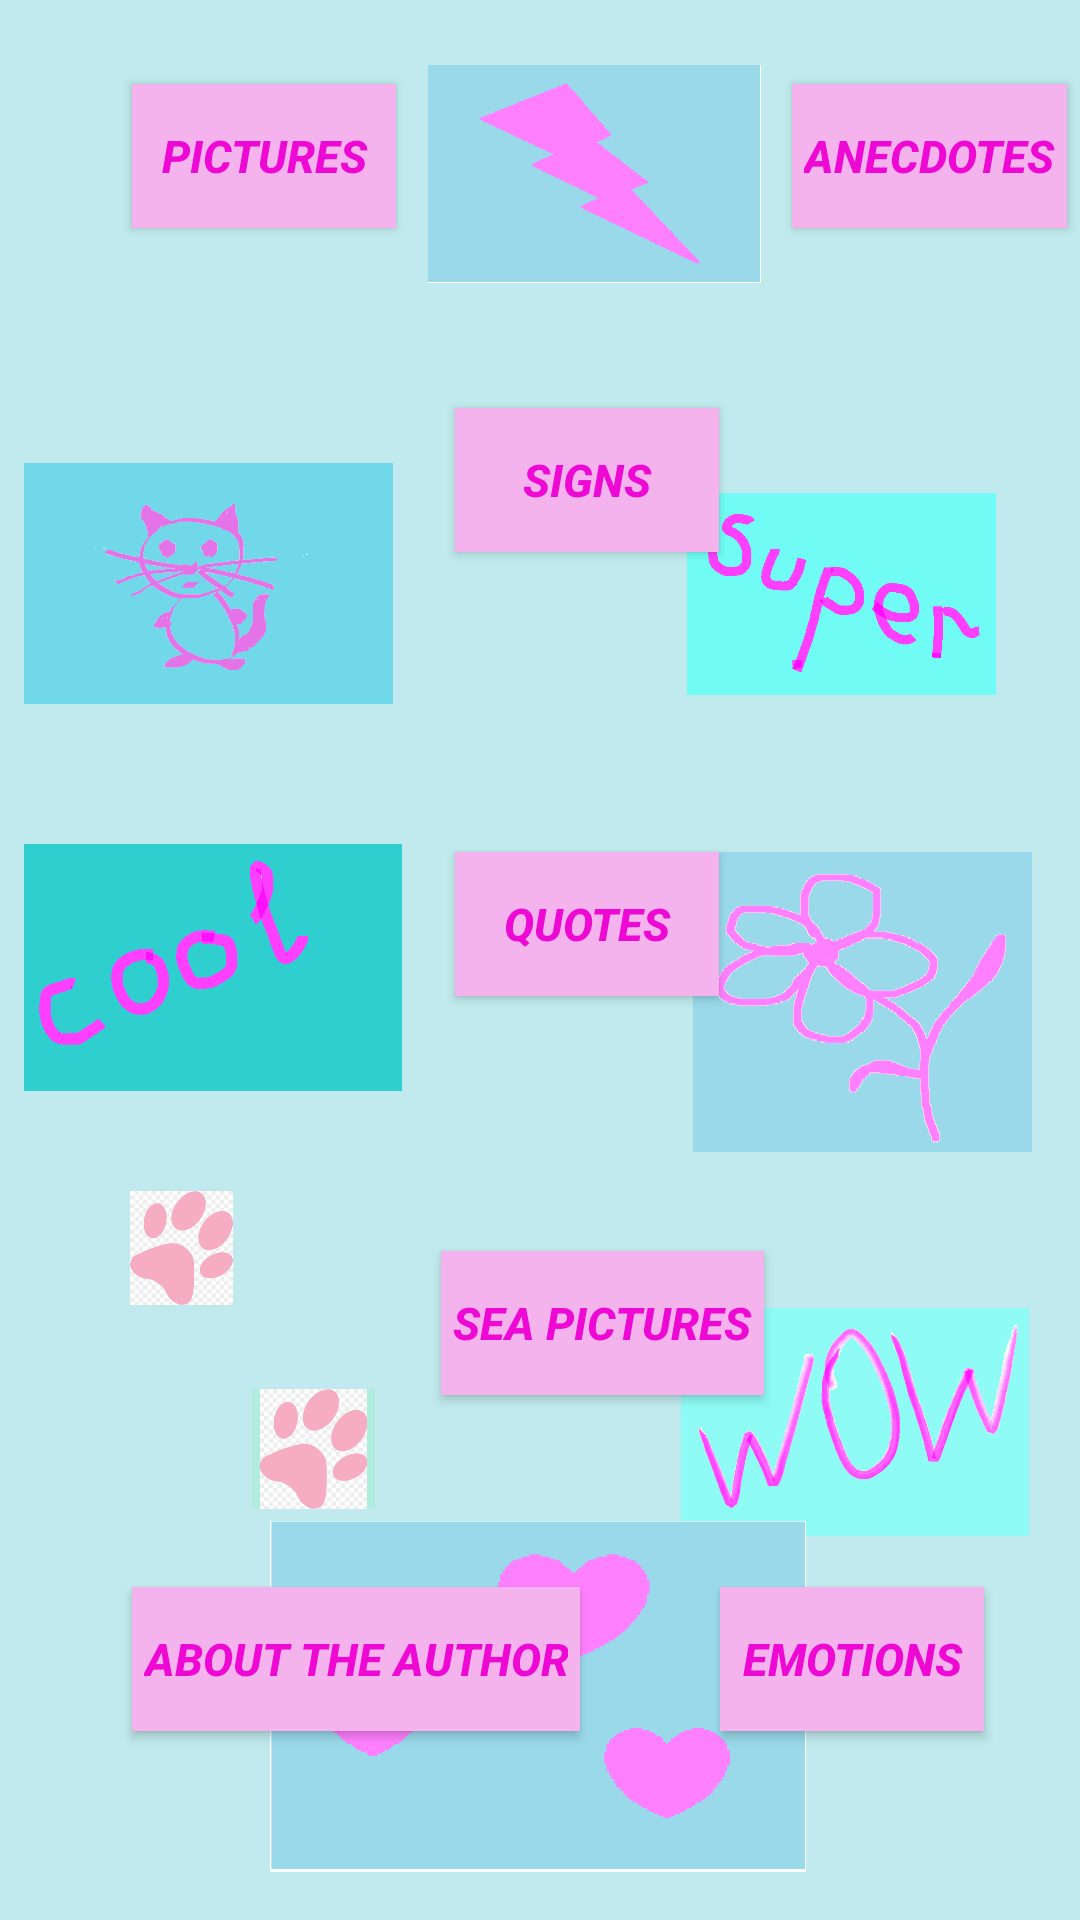

Point at icon controls on the screen. Image size 1080*1920, points as point (x, y).
catpow: point (181, 1248), point (313, 1449)
flower: point (862, 1002)
